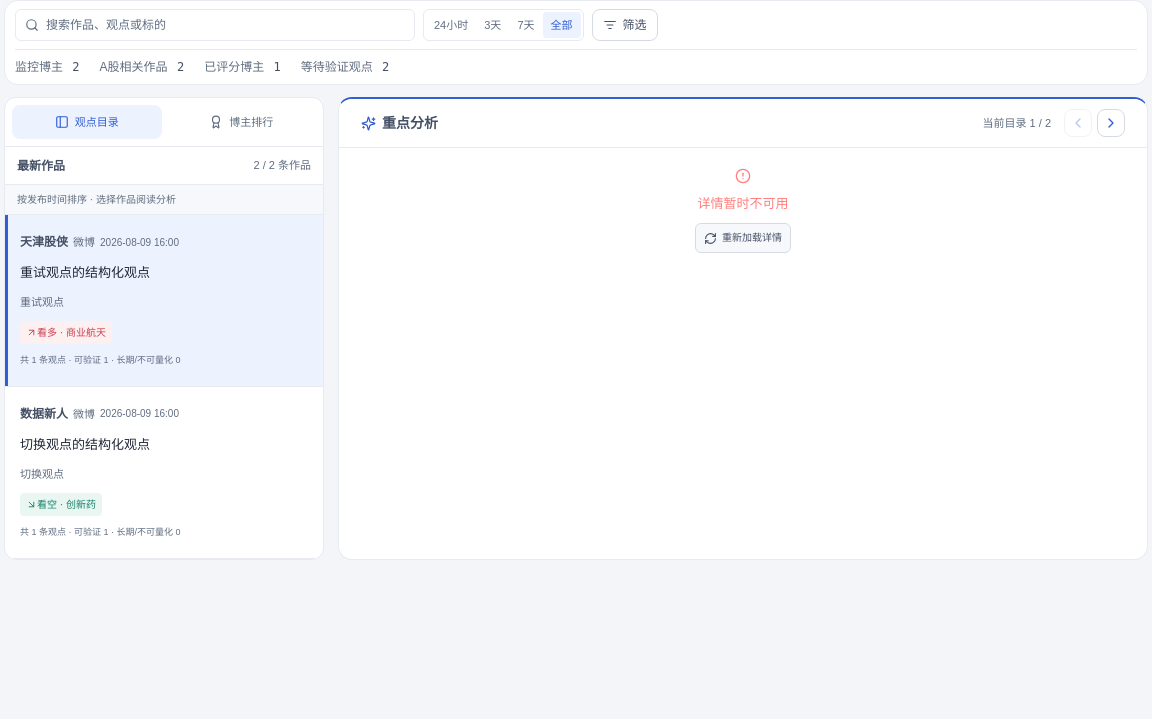
Test: CreatorInsightsView › keeps using detail caches after a failed detail has been retried
Click the button "重新加载详情".
click(743, 238)  # box [695, 223, 791, 253]
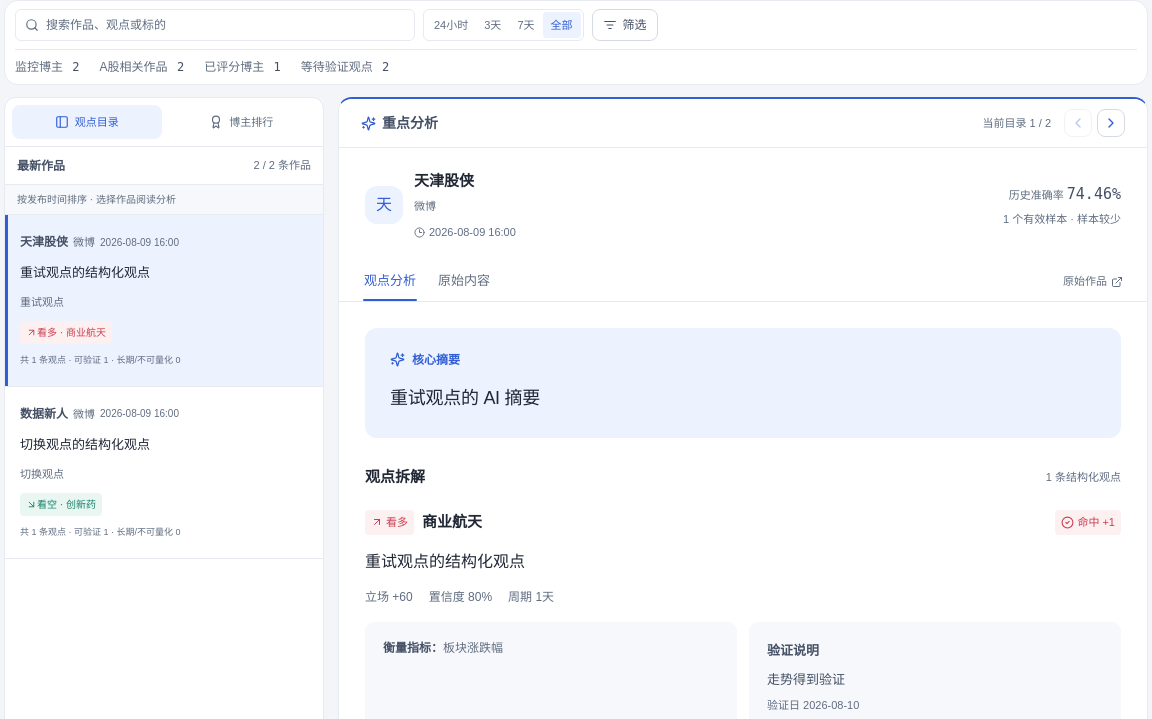
Click the button that starts with "数据新人".
click(44, 414)  # box [5, 387, 323, 559]
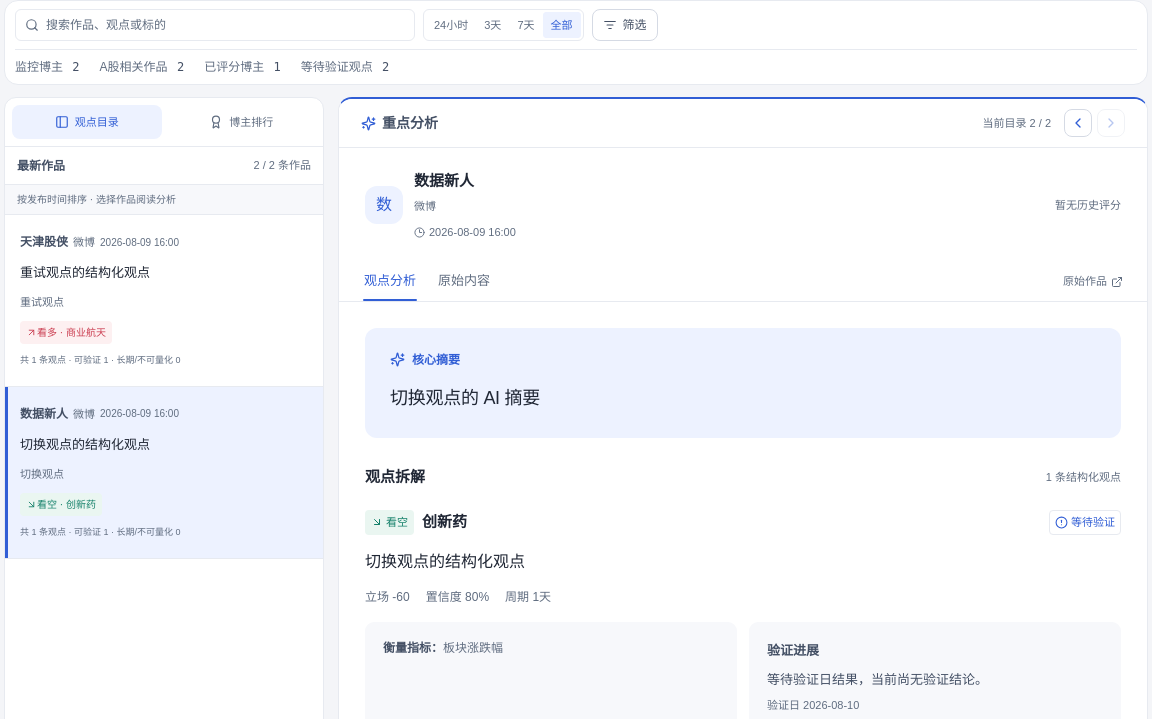
Click the button that starts with "天津股侠".
click(44, 242)  # box [5, 215, 323, 387]
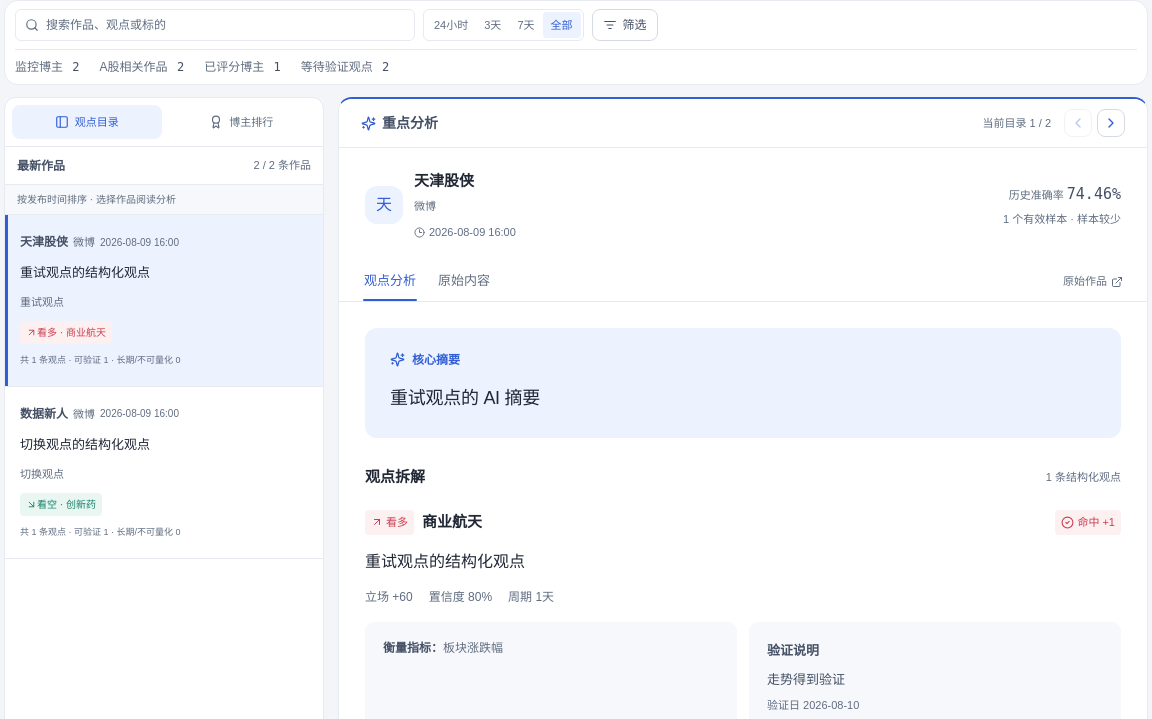
expect the text "重试观点的 AI 摘要" is shown: met, box [390, 388, 540, 408]
